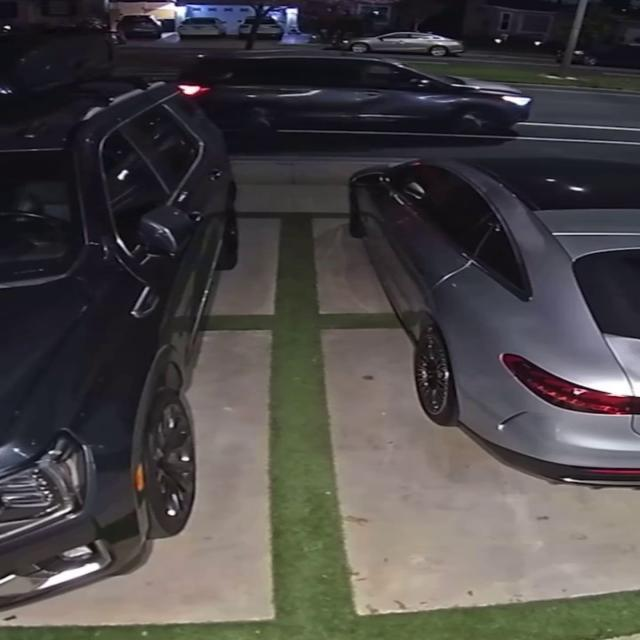Theft - Alert: (394, 160, 639, 338), (194, 56, 511, 133)
